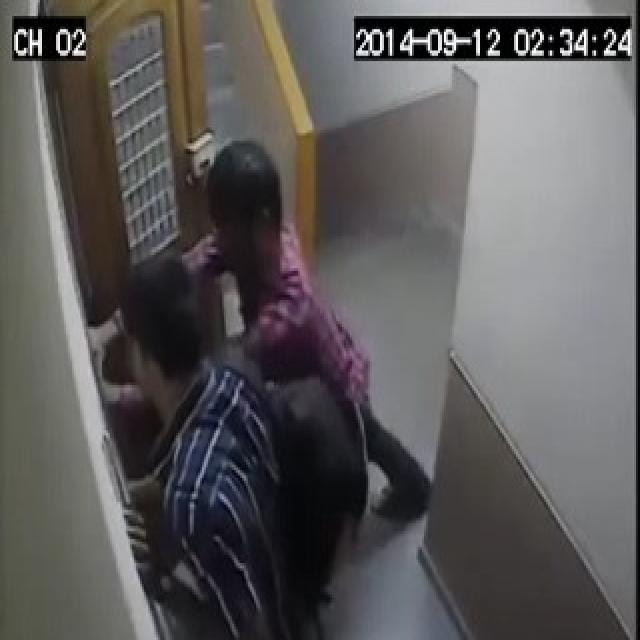burglary: (33, 207, 203, 526)
